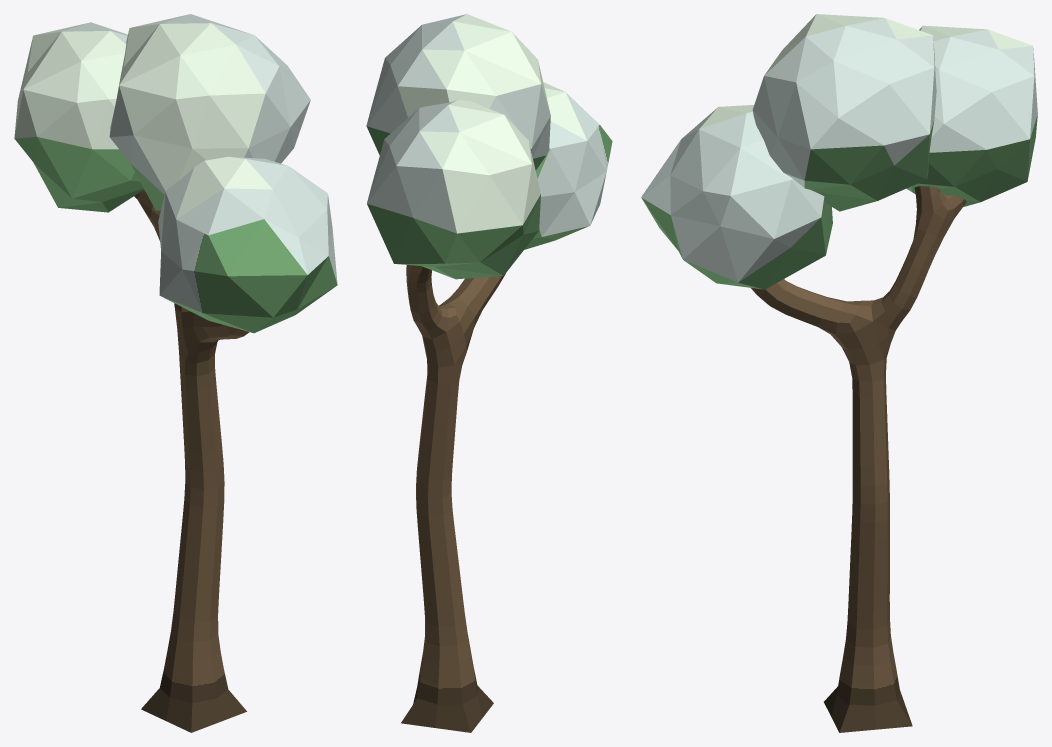
Rendered from leaves_3.gltf.
3 views of the same model, side by side, from view 1: azimuth 30°, elevation 25°; view 2: azimuth 150°, elevation 25°; view 3: azimuth 270°, elevation 25° (orthographic).
Parts seen in each view (by area): view 1: Plane; view 2: Plane; view 3: Plane.
Part boxes in pixels (box(x1,y1,x2,y2)): Plane: box(14, 14, 337, 732); Plane: box(366, 14, 612, 732); Plane: box(641, 14, 1037, 732).
Bounding box in the file's own units: 2.69 × 8.25 × 4.29.
2 materials, 2 textured.
